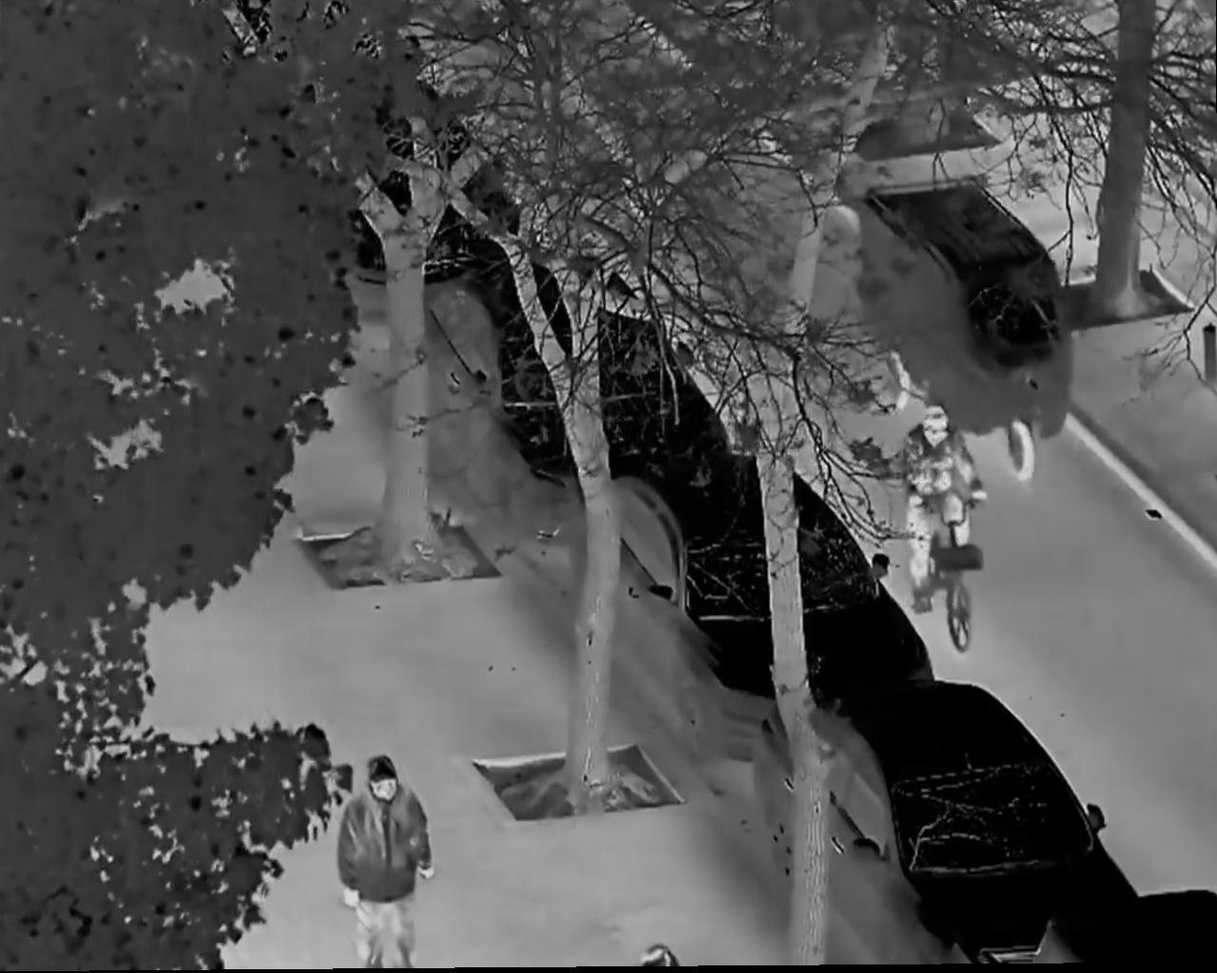person: (343, 753, 436, 973), (899, 404, 987, 613)
